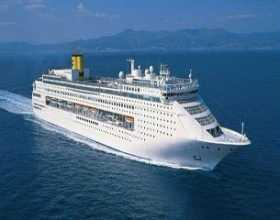youlun: (25, 43, 252, 172)
